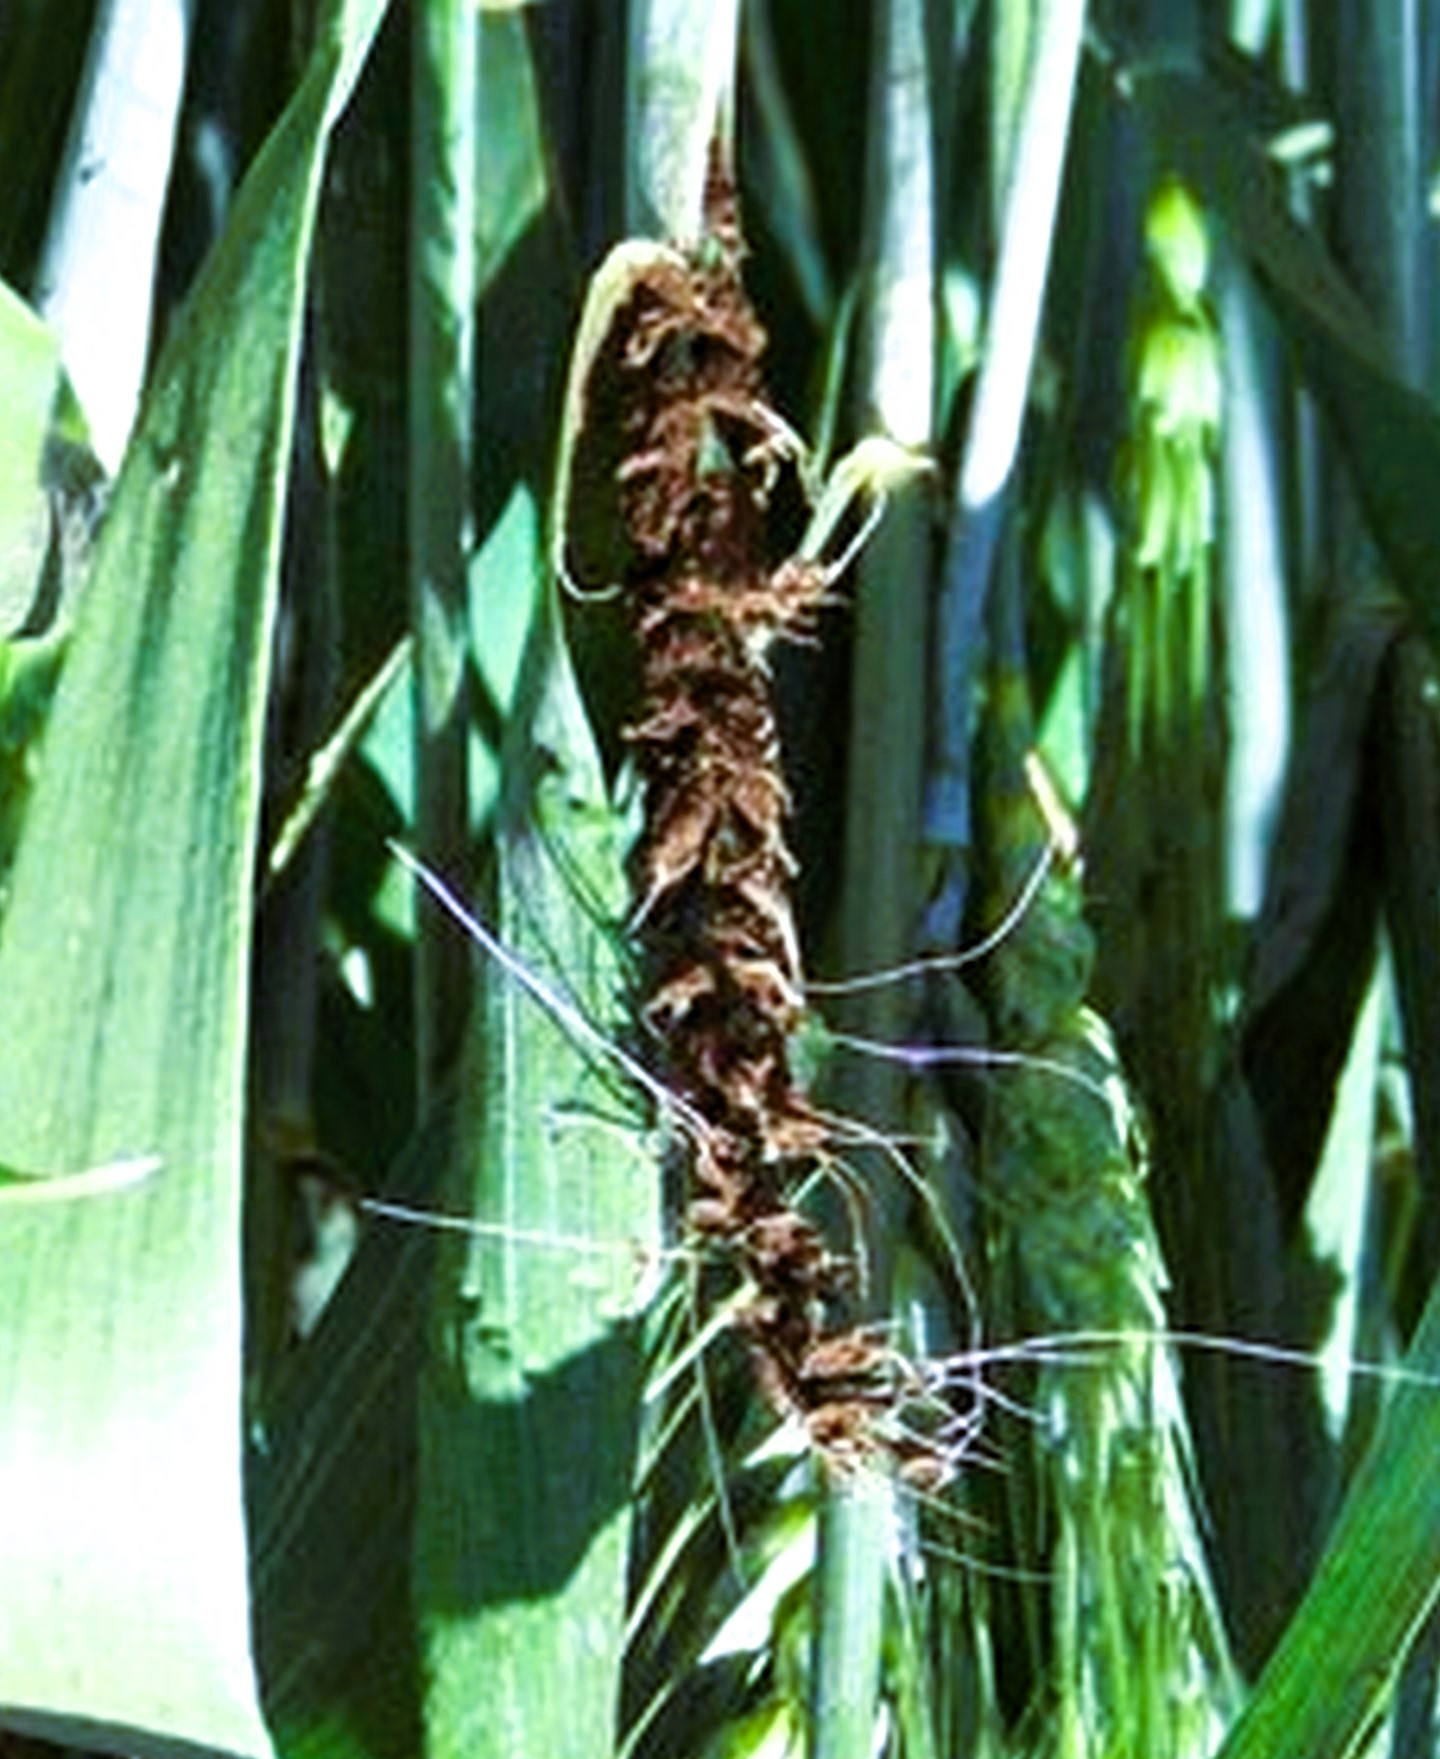Wheat Loose Smut: (545, 400, 1008, 1489)
